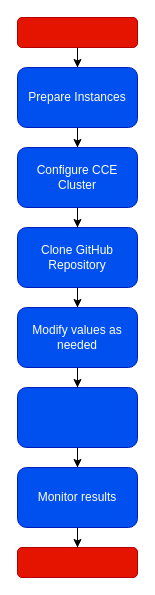
This 155x595 diagram has some shape labels left out. Each missing label, with the centre of its shape:
End: (x=77, y=562)
Run Deployment using helm: (x=77, y=417)
Start: (x=77, y=32)
